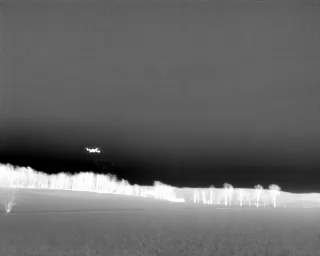DRONE: (82, 143, 105, 158)
